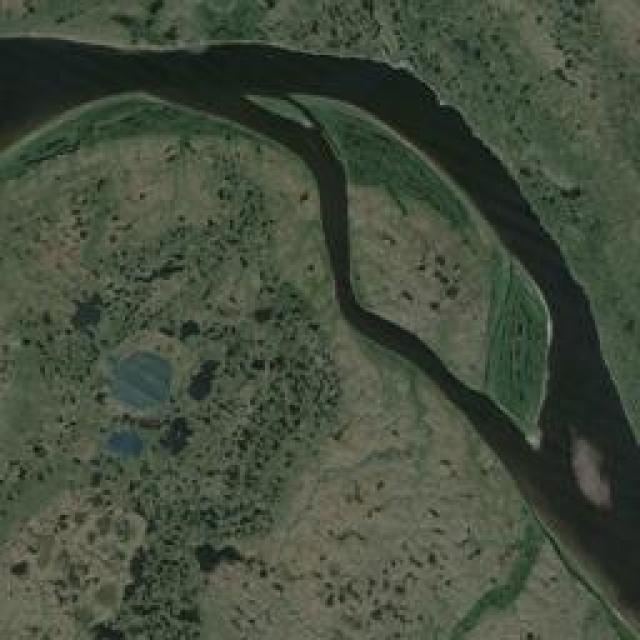Grassland: (0, 0, 638, 638)
River: (0, 39, 640, 640)
